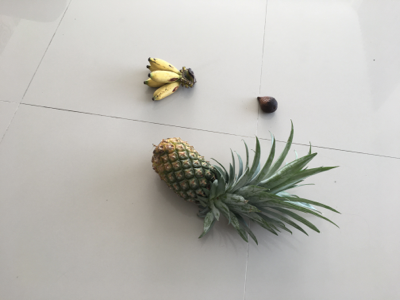banana: (144, 57, 196, 103)
pineapple: (150, 124, 340, 243)
snake fruit: (257, 96, 278, 113)
